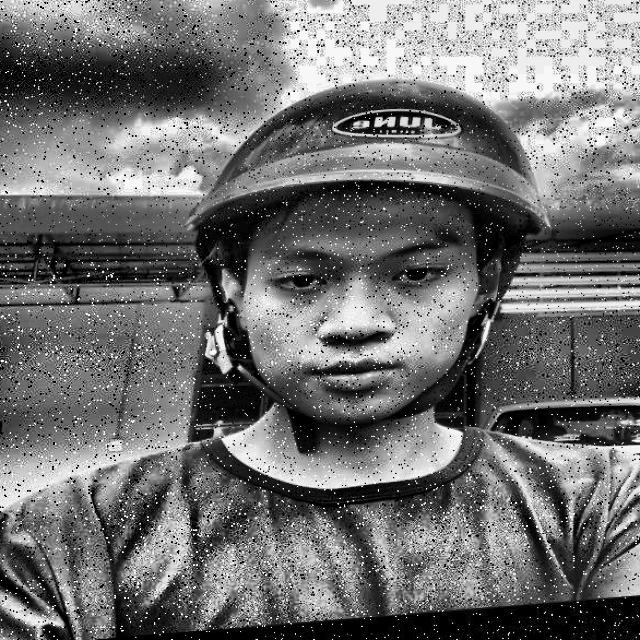Helmet: (173, 64, 570, 451)
